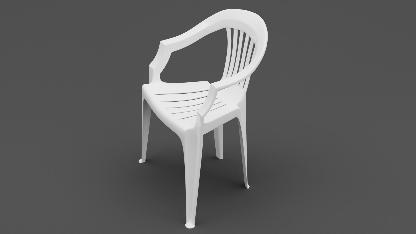chair: (135, 4, 273, 228)
